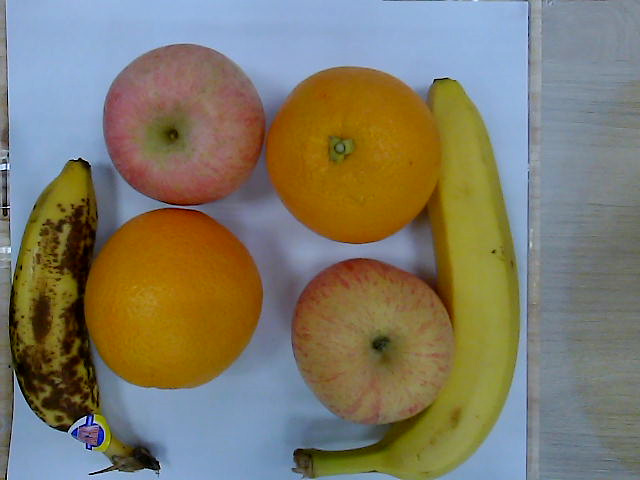fresh_apple: (296, 257, 455, 424), (103, 44, 265, 206)
fresh_banana: (382, 78, 520, 480)
fresh_orange: (84, 208, 265, 391), (265, 66, 438, 245)
rotten_banana: (11, 158, 159, 469)
